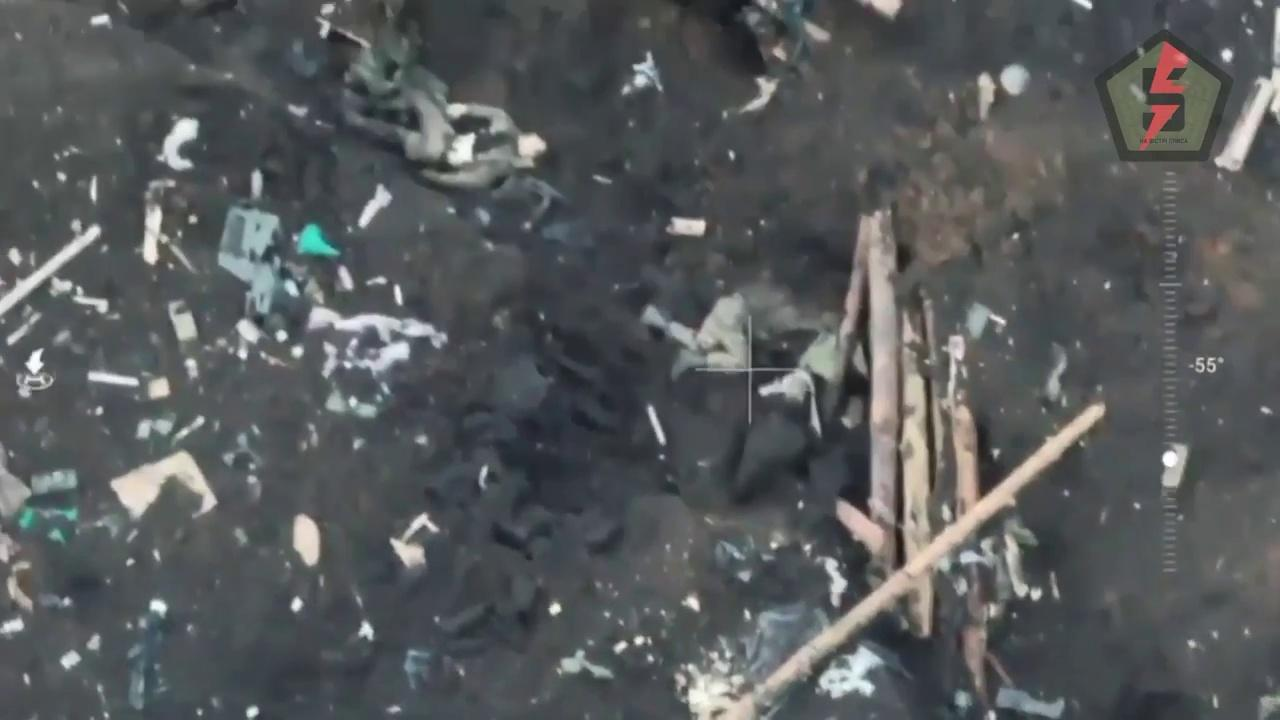person: (337, 72, 561, 192), (630, 273, 846, 383)
